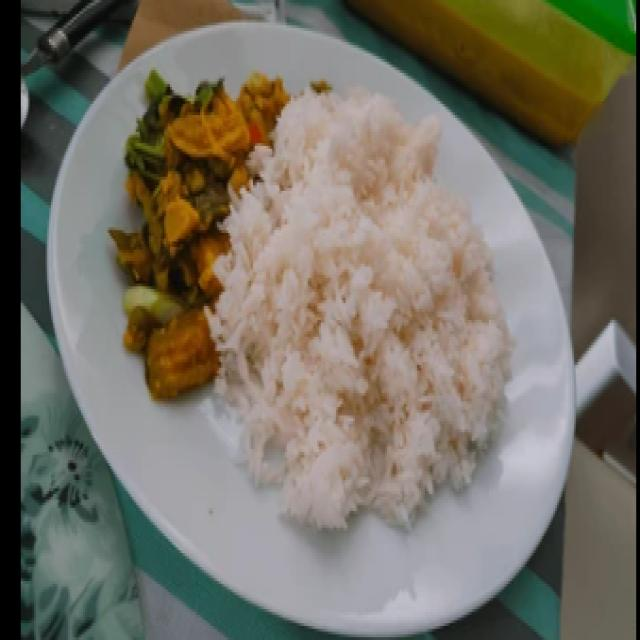rice: (282, 108, 502, 508)
